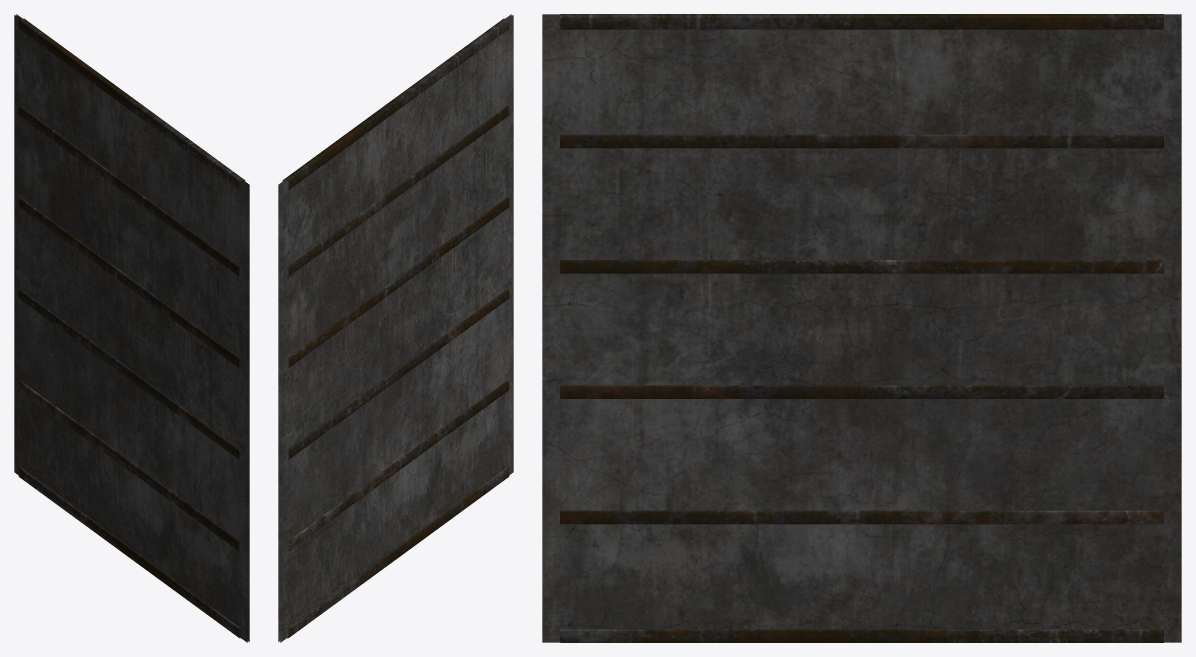
Rendered from Basement_Corridor_A_Broken_Wall_Fence_3m.glb.
3 views of the same model, side by side, from view 1: azimuth 30°, elevation 25°; view 2: azimuth 150°, elevation 25°; view 3: azimuth 270°, elevation 25° (orthographic). The views are drawn at different scales.
Visible parts, largest first — view 1: Basement_Corridor_A_Broken_Wall_Fence_3m; view 2: Basement_Corridor_A_Broken_Wall_Fence_3m; view 3: Basement_Corridor_A_Broken_Wall_Fence_3m.
Boxes of the visible parts, bbox=[...] form: Basement_Corridor_A_Broken_Wall_Fence_3m: bbox=[14, 14, 249, 642]; Basement_Corridor_A_Broken_Wall_Fence_3m: bbox=[278, 14, 513, 642]; Basement_Corridor_A_Broken_Wall_Fence_3m: bbox=[542, 14, 1181, 642].
Bounding box in the file's own units: 0.0347 × 2.49 × 2.3.
2 materials, 2 textured.
